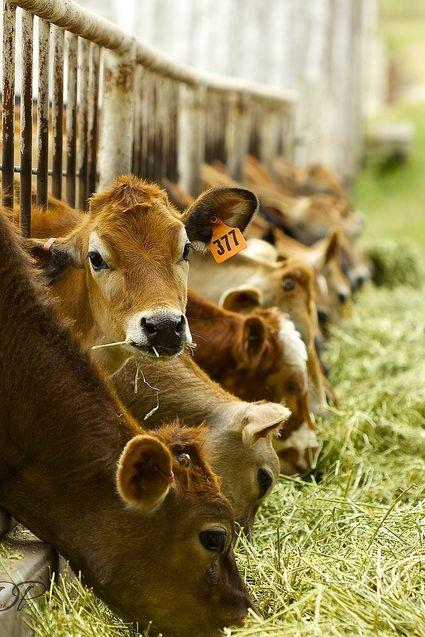cow: (42, 146, 242, 400)
